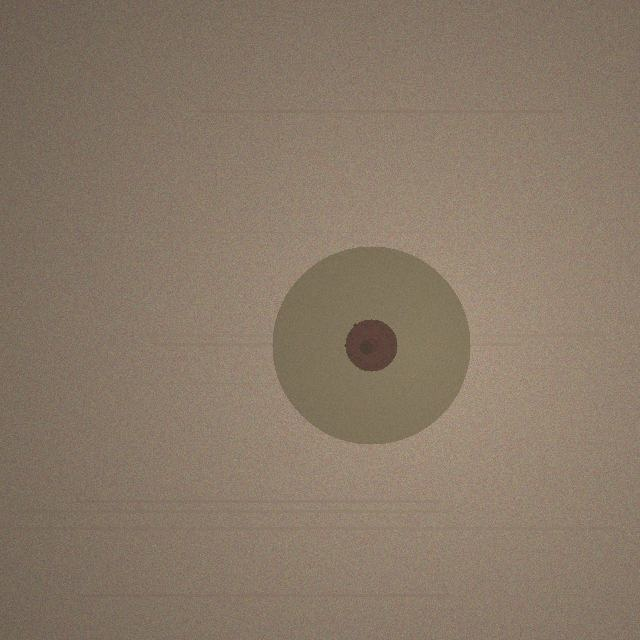cold_weld: (272, 246, 470, 444)
